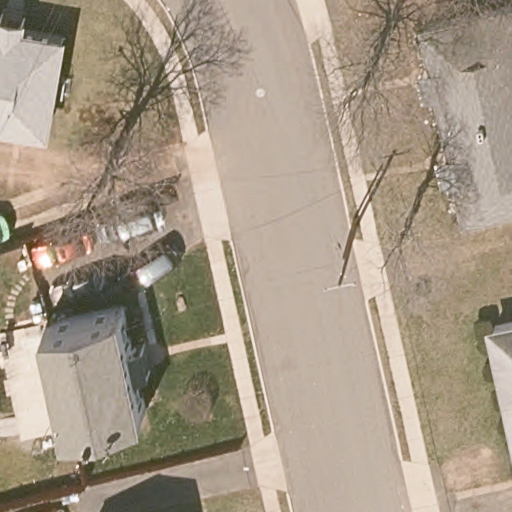DT: (323, 225, 358, 293)
